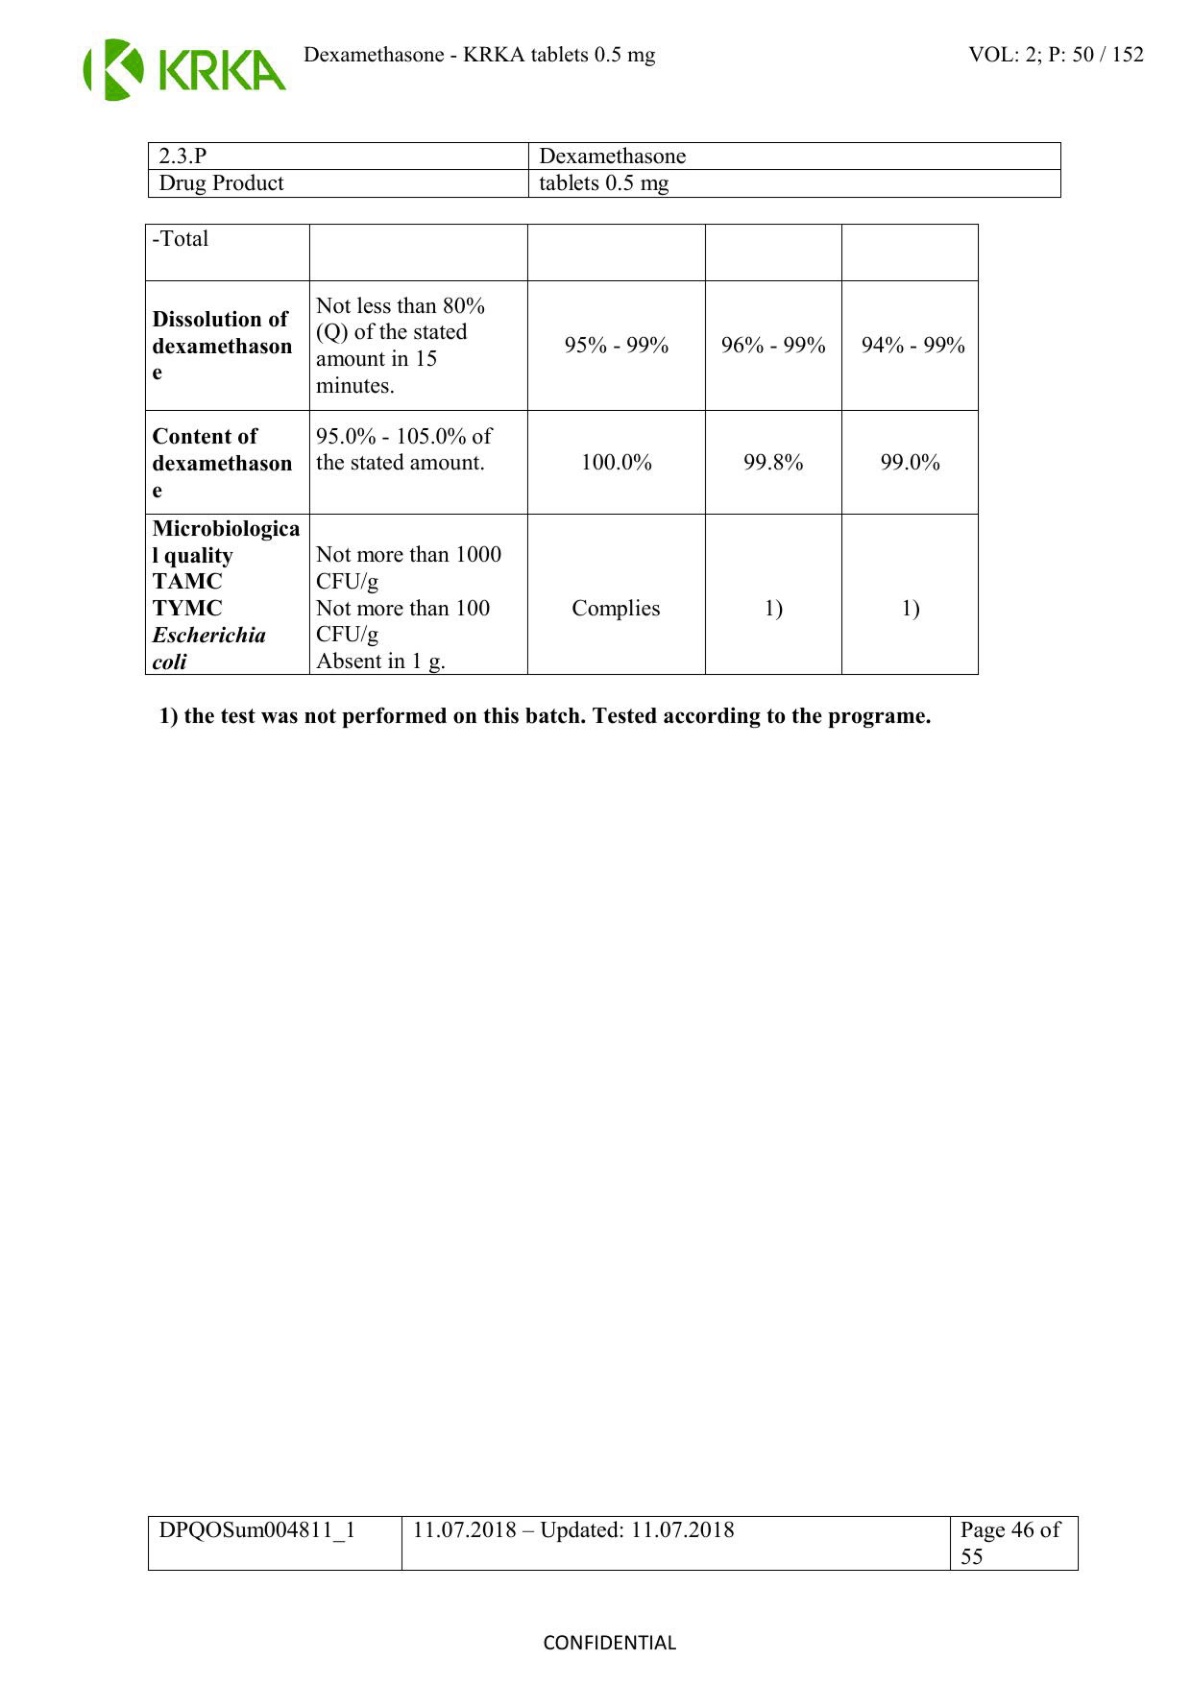full_lined: (144, 223, 979, 676), (147, 142, 1062, 199), (147, 1516, 1078, 1571)
